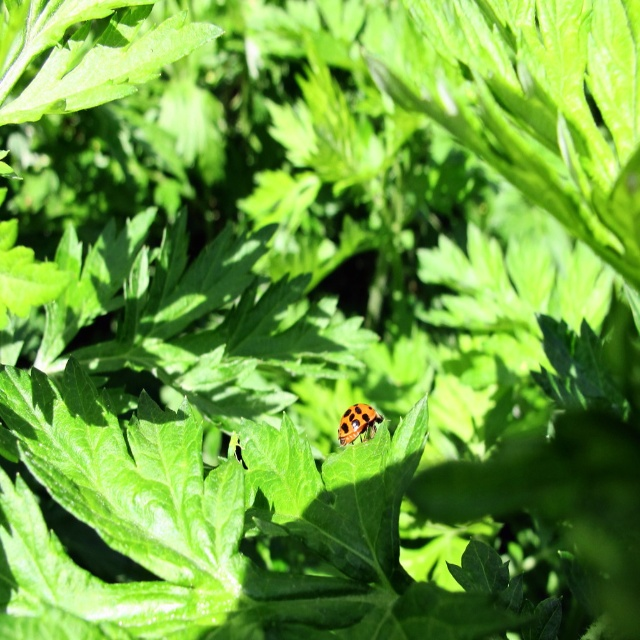Ladybug: (337, 400, 385, 447)
